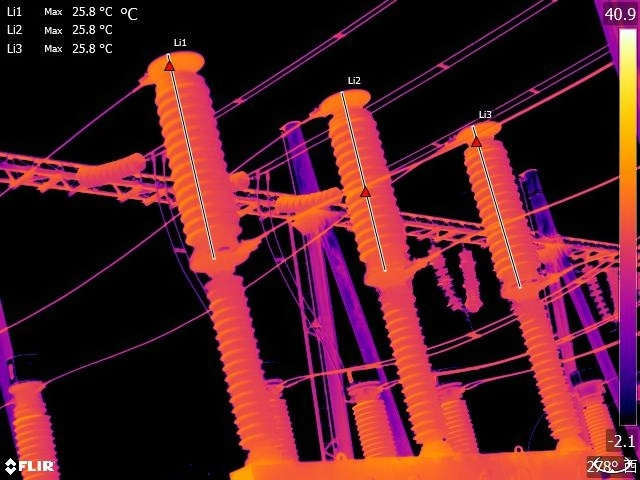circuit breaker: (150, 32, 285, 462), (319, 73, 452, 442), (468, 105, 583, 438)
clamp: (145, 141, 169, 168), (252, 161, 273, 182)
current transformer: (7, 348, 65, 480), (571, 369, 636, 480), (342, 366, 391, 458), (431, 367, 481, 454)
insulator: (72, 151, 147, 189), (426, 241, 463, 312), (276, 185, 346, 214), (585, 264, 612, 326), (457, 249, 482, 312), (605, 265, 619, 323)
